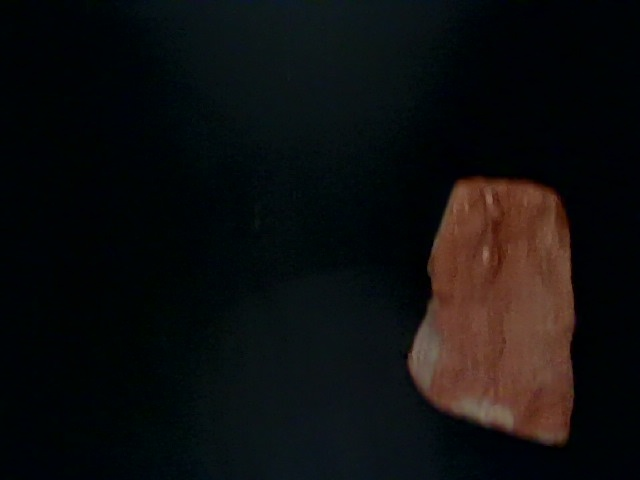KHSLJ: (45, 122, 387, 449)
